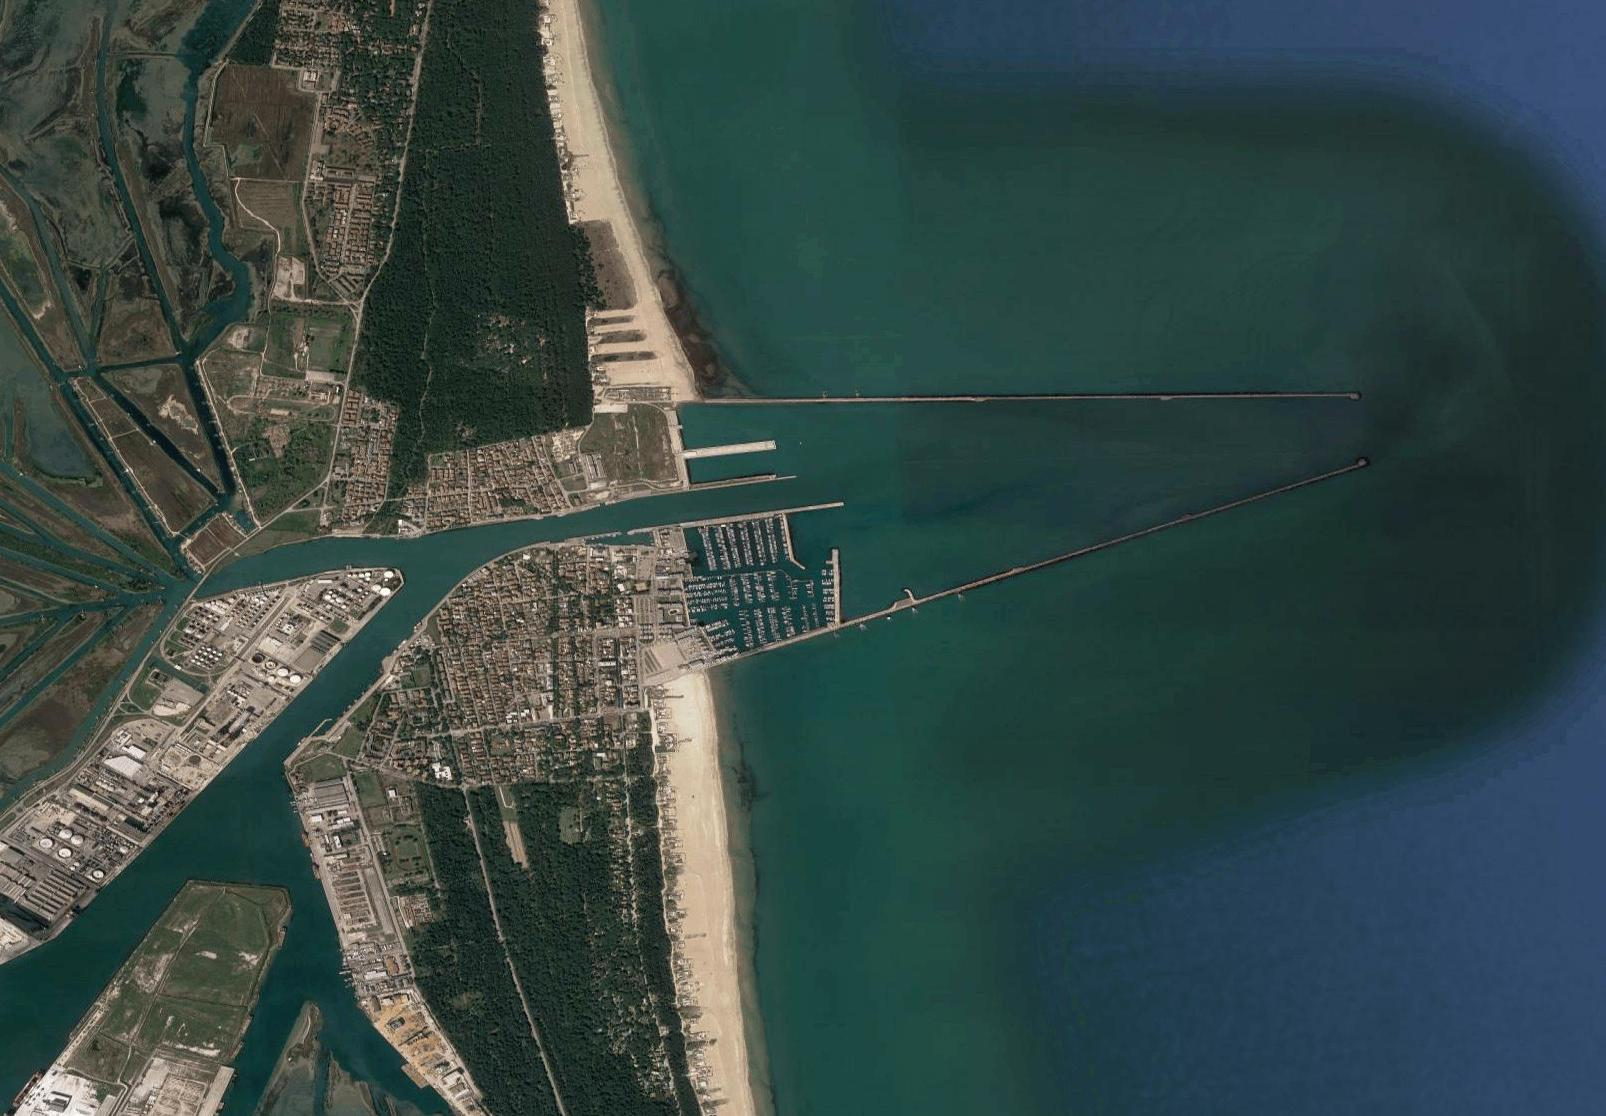harbor: (666, 492, 860, 684)
